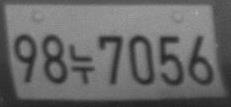0: (128, 34, 155, 84)
5: (159, 35, 184, 85)
6: (188, 35, 213, 85)
7: (98, 35, 123, 84)
8: (41, 33, 68, 84)
9: (13, 33, 37, 82)
누: (69, 43, 95, 84)
